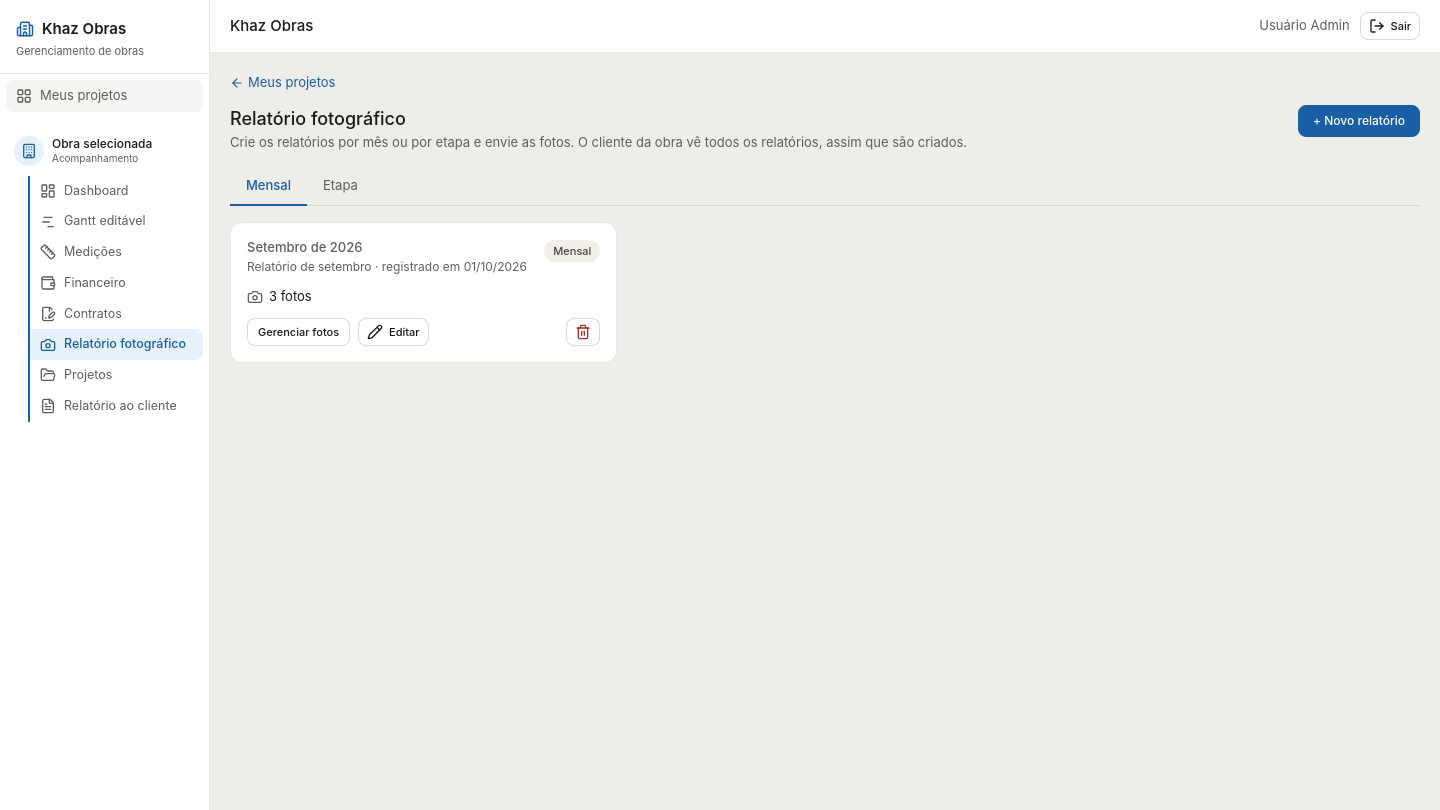
Test case: Relatório fotográfico (admin) - lista › aba sem relatórios do tipo mostra a mensagem da aba
Click the tab "Etapa" at (340, 187), box [307,168,374,206]
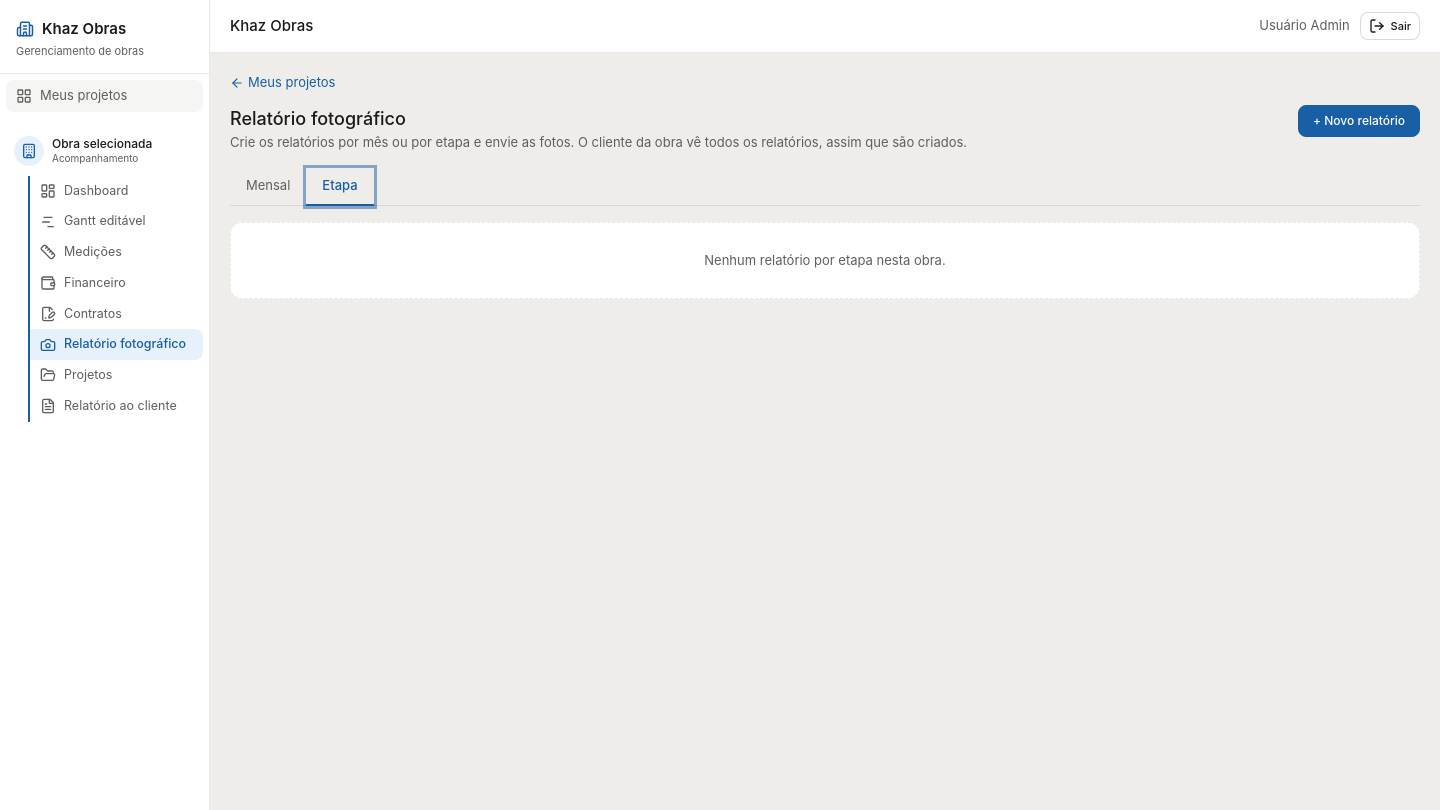
Check: the text "Nenhum relatório por etapa nesta obra." is shown, box [230,222,1420,299]
